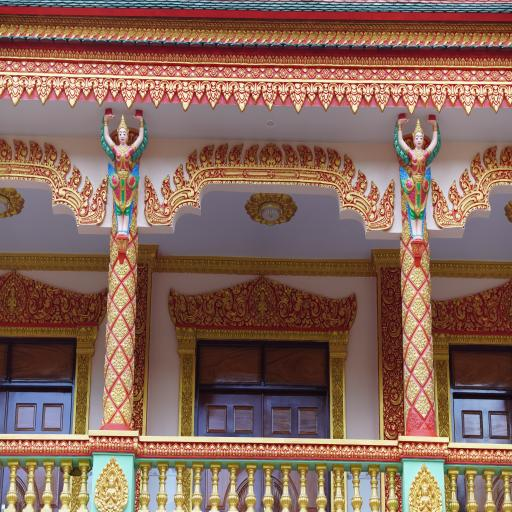hoa: (414, 390, 430, 417), (413, 326, 428, 353), (112, 378, 126, 406), (113, 284, 130, 307), (406, 376, 420, 403), (112, 347, 127, 372), (412, 293, 427, 318), (405, 343, 420, 368), (409, 265, 426, 287), (415, 358, 429, 384), (421, 312, 434, 338), (423, 379, 436, 405), (114, 257, 130, 278), (122, 364, 134, 392), (120, 397, 132, 424), (400, 218, 412, 245), (114, 315, 127, 339), (122, 334, 134, 360), (404, 314, 418, 336), (406, 410, 420, 432), (124, 272, 136, 296), (104, 366, 116, 390), (420, 281, 432, 305), (123, 302, 134, 328), (106, 334, 117, 359), (403, 281, 416, 302), (104, 398, 116, 420), (402, 250, 413, 274), (424, 345, 434, 371), (425, 411, 438, 431), (108, 303, 118, 328), (420, 251, 430, 275), (109, 273, 119, 295), (127, 243, 136, 266), (110, 241, 118, 266), (182, 380, 193, 398), (401, 334, 409, 358), (332, 383, 342, 402), (78, 381, 88, 399), (76, 418, 86, 436), (438, 387, 447, 407), (130, 214, 138, 236), (402, 366, 409, 390), (401, 190, 408, 213), (112, 411, 124, 424), (404, 400, 411, 420), (423, 222, 429, 245), (404, 69, 414, 82), (334, 424, 343, 438), (182, 422, 191, 436), (402, 302, 407, 327), (476, 70, 486, 82), (400, 274, 406, 294), (12, 60, 21, 73), (223, 66, 232, 79), (98, 62, 106, 76), (236, 68, 246, 79), (461, 70, 471, 81), (40, 63, 49, 75), (55, 63, 64, 75), (293, 68, 302, 80), (448, 69, 456, 82), (348, 69, 358, 79), (490, 71, 500, 81), (103, 355, 108, 375), (153, 66, 162, 77), (209, 67, 218, 78), (265, 68, 274, 79), (420, 70, 429, 81), (444, 488, 451, 502), (69, 63, 77, 75), (83, 63, 91, 75), (182, 66, 190, 78), (168, 64, 175, 77), (134, 188, 139, 206), (27, 62, 35, 73), (126, 65, 134, 76), (196, 67, 204, 78), (280, 68, 288, 79), (308, 68, 316, 79), (322, 68, 330, 79), (336, 68, 344, 79), (378, 69, 386, 80), (392, 69, 400, 80), (112, 214, 116, 236), (112, 64, 119, 76), (140, 64, 147, 76), (435, 70, 442, 82), (443, 477, 450, 489), (440, 427, 448, 437), (103, 384, 106, 410), (426, 244, 432, 257), (252, 67, 259, 78), (183, 469, 190, 480), (0, 60, 6, 72), (365, 68, 371, 80), (444, 501, 450, 512), (401, 241, 404, 263), (135, 236, 139, 252), (505, 71, 512, 80), (134, 267, 138, 282), (106, 325, 109, 345), (72, 504, 79, 512), (108, 265, 112, 279), (74, 476, 82, 482), (432, 403, 436, 415), (108, 293, 110, 315), (431, 370, 435, 380)
la: (457, 298, 499, 333), (274, 282, 303, 326), (24, 280, 53, 323), (169, 287, 202, 322), (324, 294, 356, 329), (70, 290, 104, 322), (222, 290, 250, 326), (2, 74, 28, 111), (47, 286, 70, 323), (117, 80, 143, 112), (173, 80, 199, 112), (229, 82, 255, 114), (398, 82, 423, 115), (342, 82, 366, 116), (369, 82, 395, 113), (286, 81, 309, 116), (60, 76, 84, 109), (455, 84, 480, 115), (312, 84, 340, 111), (380, 268, 401, 304), (426, 85, 452, 114), (89, 76, 112, 108), (202, 82, 226, 112), (258, 82, 282, 112), (146, 80, 170, 109), (32, 76, 55, 106), (304, 292, 323, 328), (483, 85, 507, 113), (432, 300, 456, 328), (203, 291, 222, 326), (383, 371, 403, 404), (382, 304, 402, 336), (383, 406, 403, 438), (383, 337, 402, 370), (272, 80, 294, 106), (470, 84, 493, 108), (104, 77, 125, 103), (48, 75, 69, 100), (385, 84, 407, 107), (76, 77, 97, 101), (161, 78, 182, 102), (246, 82, 267, 106), (414, 84, 435, 107), (330, 81, 350, 105), (21, 76, 40, 101), (190, 82, 211, 104), (302, 82, 323, 104), (358, 84, 379, 106), (217, 82, 239, 102), (442, 85, 464, 105), (134, 81, 153, 101), (498, 86, 512, 108), (182, 355, 193, 380), (134, 351, 144, 378), (135, 309, 146, 333), (135, 332, 146, 356), (136, 288, 147, 310), (332, 360, 343, 382), (437, 364, 448, 386), (137, 267, 148, 288), (134, 377, 144, 399), (333, 402, 343, 423), (134, 400, 143, 423), (182, 400, 192, 420), (79, 360, 88, 381), (439, 408, 448, 428), (434, 334, 447, 347), (78, 397, 86, 418), (217, 28, 227, 44), (490, 31, 500, 47), (90, 26, 100, 41), (126, 26, 136, 41), (362, 30, 372, 45), (434, 31, 444, 46), (136, 25, 145, 41), (344, 30, 353, 46), (353, 30, 362, 46), (426, 31, 435, 47), (330, 444, 340, 458), (72, 482, 82, 496), (80, 26, 90, 40), (190, 28, 200, 42), (199, 28, 209, 42), (235, 30, 245, 44), (262, 29, 272, 43), (290, 30, 300, 44), (462, 32, 472, 46), (480, 32, 490, 46), (110, 25, 118, 42), (124, 436, 133, 451), (145, 27, 154, 42), (408, 31, 417, 46), (417, 31, 426, 46), (268, 444, 278, 457), (36, 25, 46, 38), (54, 25, 64, 38), (326, 30, 336, 43), (100, 26, 108, 42), (155, 26, 163, 42), (500, 32, 508, 48), (59, 440, 68, 454), (281, 444, 290, 458), (294, 444, 303, 458), (482, 448, 491, 462), (8, 24, 17, 38), (172, 28, 181, 42), (208, 28, 217, 42), (253, 29, 262, 43), (272, 30, 281, 44), (308, 30, 317, 44), (317, 30, 326, 44), (428, 443, 438, 455), (494, 450, 504, 462), (164, 27, 172, 42), (227, 29, 235, 44), (340, 330, 348, 345), (232, 444, 241, 457), (257, 443, 266, 456), (342, 445, 351, 458), (379, 446, 388, 459), (27, 24, 36, 37), (45, 25, 54, 38), (399, 32, 408, 45), (444, 32, 453, 45), (10, 440, 18, 454), (71, 440, 79, 454), (208, 443, 216, 457), (306, 444, 314, 458), (416, 443, 424, 457), (470, 449, 478, 463), (19, 24, 27, 38), (73, 26, 81, 40), (119, 26, 127, 40), (182, 28, 190, 42), (245, 29, 253, 43), (282, 30, 290, 44), (381, 32, 389, 46), (390, 32, 398, 46), (454, 32, 462, 46), (473, 32, 481, 46), (402, 444, 412, 455), (0, 22, 7, 37), (23, 440, 31, 453), (35, 440, 43, 453), (47, 440, 55, 453), (100, 436, 108, 449), (112, 437, 120, 450), (148, 442, 156, 455), (160, 443, 168, 456), (184, 443, 192, 456), (221, 443, 229, 456), (318, 445, 326, 458), (336, 31, 344, 44), (372, 32, 380, 45), (331, 332, 339, 345), (183, 481, 190, 495), (78, 326, 85, 340), (83, 440, 91, 452), (172, 443, 180, 455), (196, 444, 204, 456), (245, 444, 253, 456), (355, 446, 363, 458), (391, 448, 399, 460), (458, 449, 466, 461), (64, 26, 72, 38), (300, 31, 308, 43), (441, 443, 448, 456), (72, 496, 81, 506), (368, 446, 375, 458), (185, 496, 191, 510), (95, 50, 103, 60), (102, 50, 110, 60), (152, 52, 160, 62), (195, 53, 203, 63), (0, 440, 6, 453), (80, 50, 88, 59), (144, 52, 152, 61), (265, 55, 273, 64), (495, 58, 503, 67), (95, 436, 100, 450), (143, 442, 148, 456), (289, 443, 294, 457), (507, 450, 512, 464), (67, 440, 72, 453), (79, 440, 84, 453), (90, 437, 95, 450), (138, 442, 143, 455), (448, 449, 453, 462), (86, 327, 91, 340), (508, 32, 512, 48), (1, 48, 9, 56), (44, 50, 52, 58), (52, 50, 60, 58), (116, 52, 124, 60), (136, 52, 144, 60), (230, 54, 238, 62), (244, 55, 252, 63), (251, 55, 259, 63), (280, 56, 288, 64), (337, 56, 345, 64), (351, 56, 359, 64), (423, 58, 431, 66), (437, 58, 445, 66), (452, 58, 460, 66), (481, 58, 489, 66), (488, 58, 496, 66), (148, 249, 156, 257), (66, 49, 73, 58), (88, 50, 95, 59), (166, 53, 173, 62), (181, 53, 188, 62), (345, 56, 352, 65), (270, 328, 276, 338), (6, 440, 10, 454), (120, 436, 124, 450), (192, 442, 196, 456), (490, 449, 494, 463), (92, 326, 96, 340), (376, 253, 384, 260), (9, 48, 16, 56), (16, 48, 23, 56), (59, 50, 66, 58), (124, 52, 131, 60), (174, 54, 181, 62), (188, 54, 195, 62), (202, 54, 209, 62), (216, 54, 223, 62), (309, 56, 316, 64), (316, 56, 323, 64), (366, 57, 373, 65), (373, 57, 380, 65), (409, 57, 416, 65), (416, 57, 423, 65), (445, 57, 452, 65), (473, 58, 480, 66), (24, 48, 30, 57), (110, 51, 116, 60), (224, 54, 230, 63), (324, 55, 330, 64), (359, 56, 365, 65), (18, 440, 22, 453), (55, 440, 59, 453), (302, 444, 306, 457), (388, 446, 392, 459), (424, 443, 428, 456), (73, 257, 80, 264), (381, 58, 388, 65), (395, 58, 402, 65), (402, 58, 409, 65), (294, 331, 301, 338), (491, 335, 498, 342), (108, 437, 112, 449), (168, 443, 172, 455), (253, 444, 257, 456), (326, 445, 330, 457), (363, 446, 367, 458), (436, 443, 440, 455), (453, 448, 457, 460), (478, 450, 482, 462), (503, 450, 507, 462), (8, 256, 14, 264), (14, 256, 20, 264), (20, 256, 26, 264), (26, 256, 32, 264), (56, 256, 62, 264), (62, 256, 68, 264), (170, 258, 176, 266), (176, 258, 182, 266), (200, 259, 206, 267), (318, 262, 324, 270), (323, 262, 329, 270), (342, 263, 348, 271), (348, 263, 354, 271), (31, 48, 37, 56), (38, 49, 44, 57), (74, 50, 80, 58), (160, 54, 166, 62), (238, 54, 244, 62), (259, 56, 265, 64), (274, 55, 280, 63), (288, 56, 294, 64), (330, 56, 336, 64), (431, 57, 437, 65), (467, 58, 473, 66), (504, 58, 510, 66), (222, 330, 228, 338), (234, 330, 240, 338), (264, 330, 270, 338), (276, 330, 282, 338), (430, 262, 436, 270), (454, 263, 460, 271), (460, 263, 466, 271), (490, 264, 496, 272), (498, 335, 504, 343), (10, 326, 15, 335), (354, 262, 359, 271), (241, 329, 246, 338), (180, 443, 184, 454), (241, 444, 245, 455), (31, 438, 34, 452), (217, 443, 220, 457), (314, 444, 317, 458), (351, 445, 354, 459), (32, 257, 39, 263), (38, 257, 44, 264), (50, 257, 56, 264), (68, 257, 74, 264), (86, 258, 92, 265), (164, 259, 170, 266), (194, 259, 200, 266), (217, 260, 223, 267), (223, 260, 229, 267), (235, 261, 241, 268), (246, 261, 252, 268), (253, 261, 259, 268), (264, 261, 270, 268), (294, 261, 300, 268), (306, 262, 312, 269), (312, 262, 318, 269), (329, 262, 335, 269), (359, 262, 365, 269), (365, 263, 371, 270), (390, 253, 396, 260), (210, 55, 216, 62), (296, 56, 302, 63), (388, 58, 394, 65), (460, 58, 466, 65), (203, 329, 209, 336), (210, 329, 216, 336), (228, 330, 234, 337), (252, 330, 258, 337), (282, 331, 289, 337), (288, 331, 294, 338), (306, 331, 312, 338), (313, 331, 319, 338), (324, 332, 330, 339), (436, 263, 442, 270), (466, 264, 472, 271), (472, 264, 478, 271), (478, 264, 484, 271), (484, 264, 490, 271), (496, 264, 502, 271), (449, 334, 455, 341), (455, 334, 461, 341), (468, 334, 474, 341), (480, 335, 486, 342), (0, 326, 5, 334), (384, 252, 389, 260), (132, 51, 136, 61), (303, 56, 308, 64), (198, 328, 203, 336), (443, 263, 448, 271), (449, 263, 454, 271), (43, 439, 46, 452), (205, 443, 208, 456), (339, 445, 342, 458), (376, 446, 379, 459), (412, 443, 415, 456), (229, 444, 232, 456), (266, 444, 269, 456), (466, 449, 469, 461), (29, 326, 33, 335), (44, 257, 50, 263), (98, 258, 104, 264), (142, 250, 148, 256), (212, 260, 218, 266), (229, 260, 235, 266), (241, 262, 247, 268), (270, 262, 276, 268), (276, 262, 282, 268), (282, 262, 288, 268), (288, 262, 294, 268), (300, 262, 306, 268), (216, 330, 222, 336), (246, 330, 252, 336), (502, 265, 508, 271), (473, 334, 479, 340), (104, 258, 109, 265), (159, 259, 164, 266), (182, 259, 187, 266), (188, 259, 193, 266), (259, 261, 264, 268), (507, 264, 512, 271), (156, 443, 159, 454), (278, 445, 281, 456), (16, 326, 20, 334), (155, 258, 159, 266), (336, 262, 340, 270), (80, 258, 85, 264), (92, 258, 97, 264), (206, 260, 211, 266), (486, 336, 491, 342), (504, 336, 509, 342), (509, 335, 512, 345), (13, 327, 17, 334), (20, 327, 24, 334), (0, 255, 4, 262), (396, 253, 400, 260), (302, 331, 306, 338), (460, 334, 464, 341), (26, 326, 29, 335), (5, 327, 8, 335), (33, 326, 36, 334), (45, 327, 48, 335), (54, 327, 57, 335), (57, 326, 60, 334), (63, 327, 66, 335), (66, 326, 69, 334), (69, 327, 72, 335), (4, 257, 8, 263), (260, 331, 264, 337), (320, 332, 324, 338), (38, 327, 41, 334), (42, 328, 45, 335), (48, 327, 51, 334), (51, 328, 54, 335), (72, 327, 75, 334), (60, 326, 62, 335), (138, 250, 141, 256), (464, 335, 467, 341), (24, 326, 26, 334), (36, 326, 38, 334), (75, 327, 77, 335), (8, 327, 10, 334)
lua: (373, 182, 396, 230), (430, 178, 452, 226), (86, 177, 106, 223), (146, 177, 162, 227), (261, 141, 281, 166), (484, 143, 499, 169), (13, 138, 28, 162), (29, 139, 43, 164), (284, 142, 298, 166), (69, 164, 81, 191), (214, 142, 228, 165), (298, 146, 314, 166), (59, 148, 70, 177), (0, 139, 13, 163), (328, 148, 342, 170), (44, 140, 56, 165), (460, 168, 473, 191), (344, 151, 354, 180), (245, 143, 257, 167), (354, 168, 366, 192), (187, 148, 198, 174), (230, 144, 243, 166), (471, 150, 482, 176), (174, 166, 186, 189), (202, 142, 212, 168), (314, 146, 327, 166), (164, 176, 174, 200), (500, 145, 512, 165), (83, 176, 92, 200), (370, 180, 379, 203), (450, 181, 460, 200)
than: (102, 114, 144, 236), (396, 115, 436, 237), (95, 456, 130, 512), (407, 462, 444, 512), (250, 278, 275, 326), (2, 271, 24, 321), (503, 286, 512, 328)
